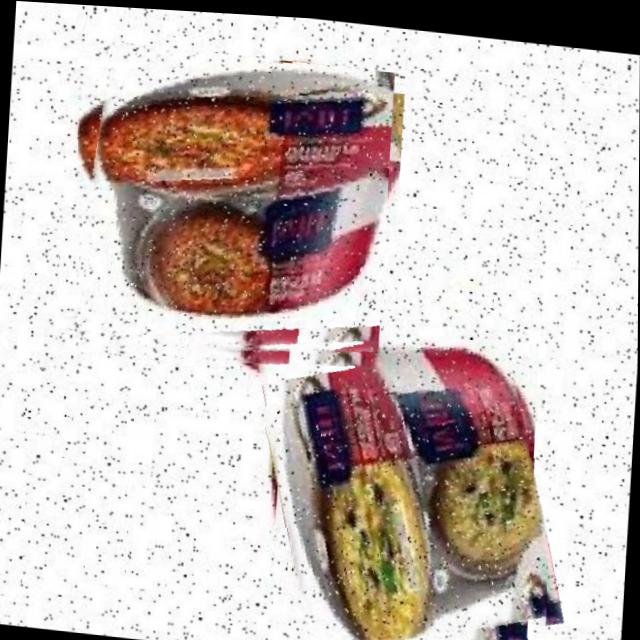Miscellaneous: (66, 35, 396, 378), (254, 282, 566, 640)
